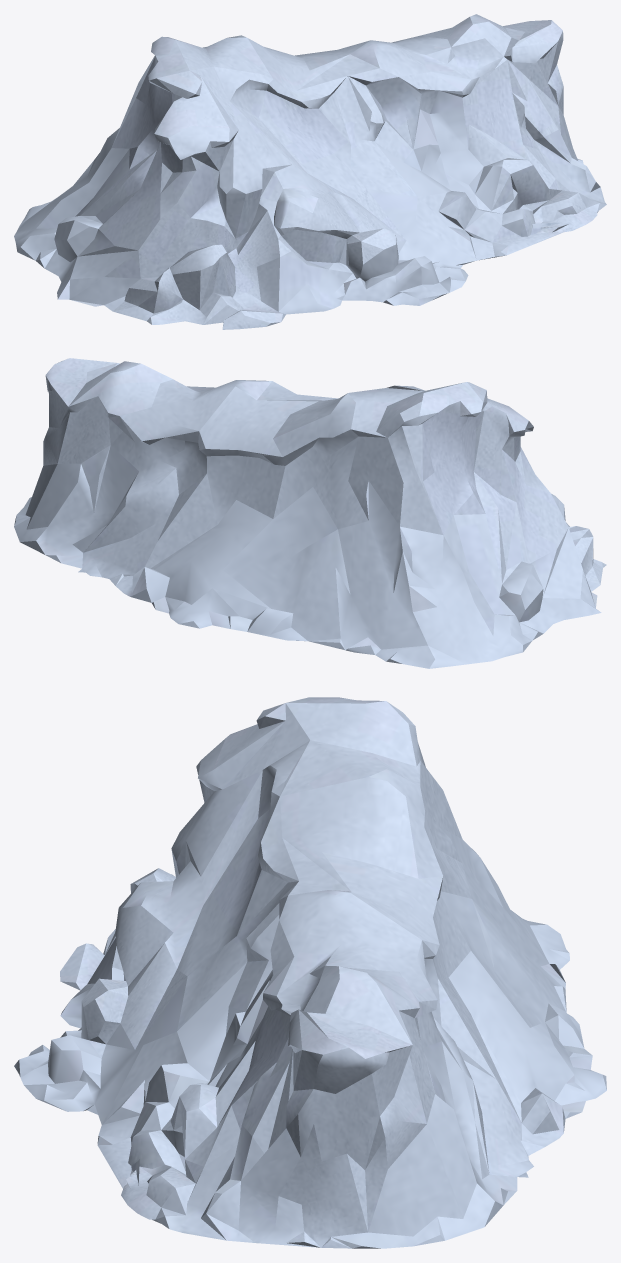
Rendered from snow_bank.glb.
3 renders of one model, top to bottom at view 1: azimuth 30°, elevation 25°; view 2: azimuth 150°, elevation 25°; view 3: azimuth 270°, elevation 25°, orthographic. The views are drawn at different scales.
Visible parts, largest first — view 1: Mesh_0; view 2: Mesh_0; view 3: Mesh_0.
Part boxes in pixels (left/top/right/bottom): Mesh_0: left=14, top=14, right=606, bottom=329; Mesh_0: left=14, top=358, right=606, bottom=668; Mesh_0: left=14, top=697, right=606, bottom=1248.
Size of the model in its own units: 1.89 by 0.6833 by 1.3.
1 material, 1 textured.
